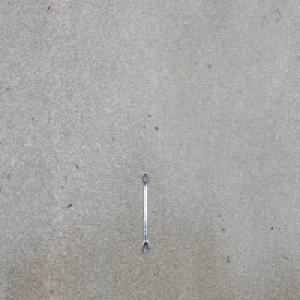Wrench: (141, 169, 150, 255)
